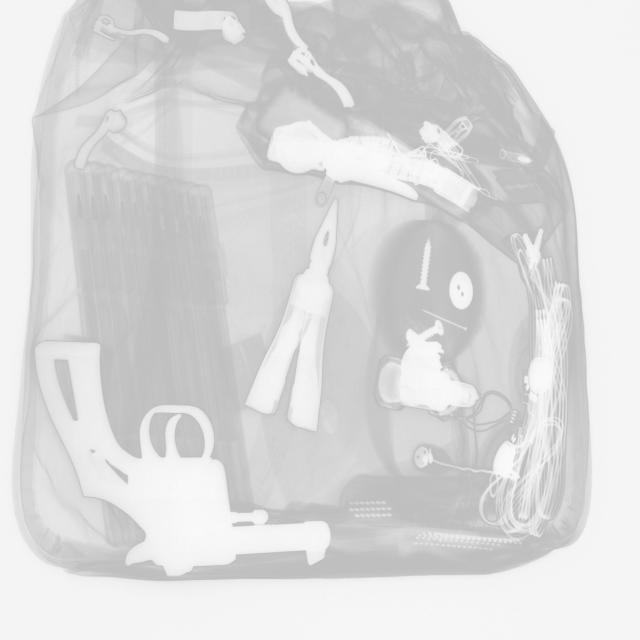knife: (236, 199, 360, 411)
pistol: (31, 338, 332, 575)
